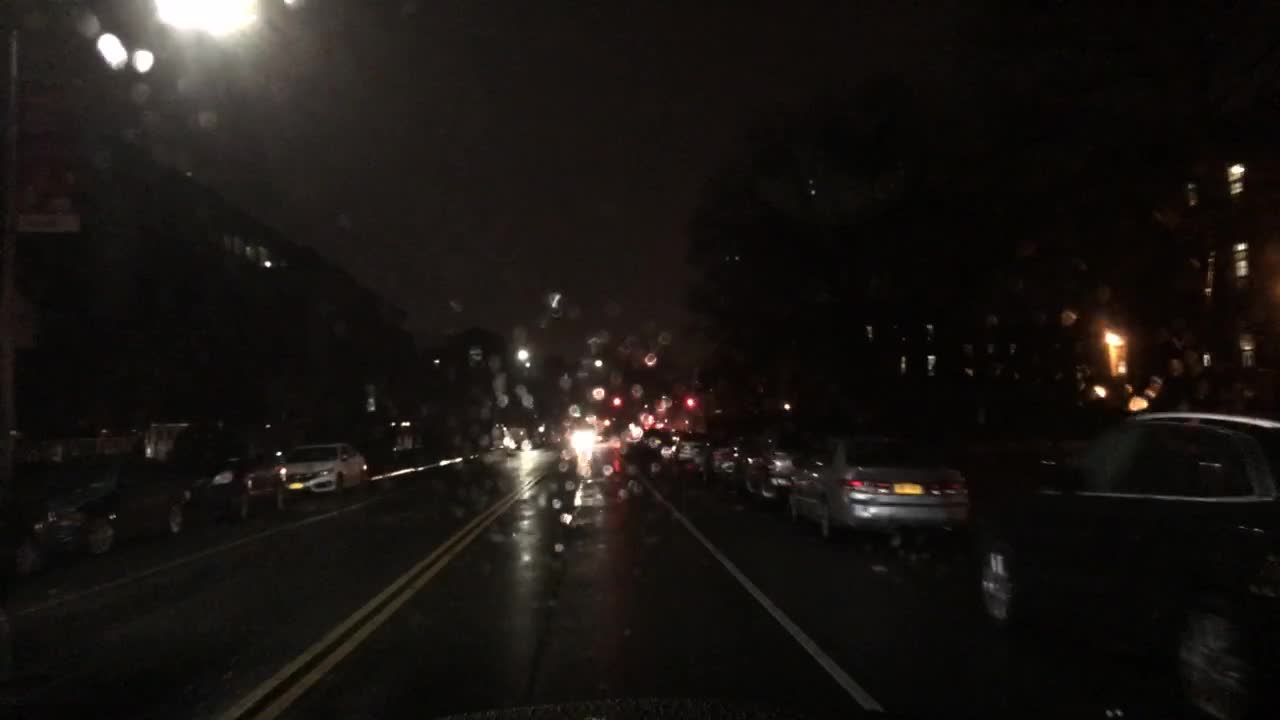car: (975, 408, 1279, 719), (783, 428, 968, 538), (25, 454, 197, 560), (732, 423, 822, 506), (187, 449, 293, 518), (282, 444, 368, 498), (0, 509, 42, 592), (707, 428, 746, 482), (670, 428, 715, 474), (476, 420, 519, 452), (656, 427, 685, 455), (525, 420, 555, 447), (568, 423, 599, 447), (639, 422, 666, 447), (509, 423, 536, 447)
traffic light: (685, 393, 697, 412), (609, 395, 622, 410)
